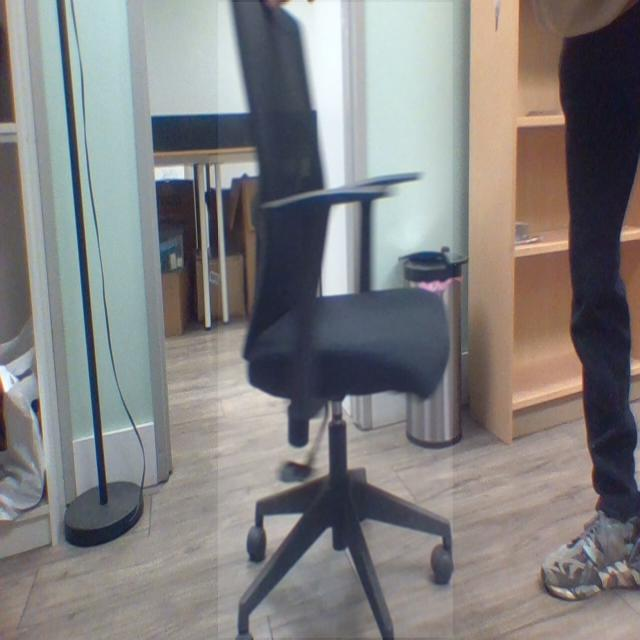black-chair: (218, 2, 454, 639)
